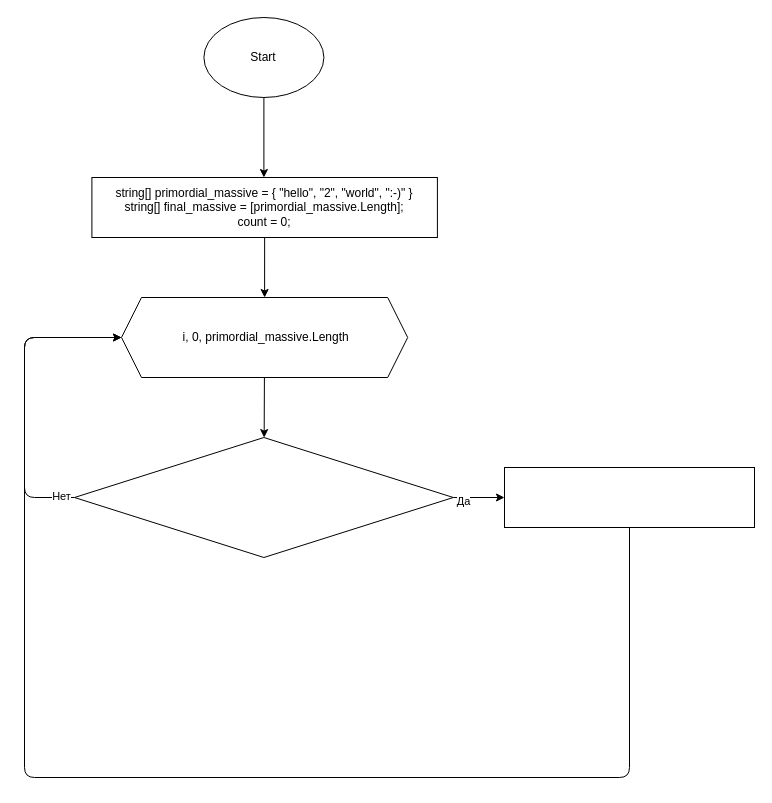
Some shapes in this 772 by 803 pixel diagram are drawn without their labels. The shapes that lost their labels are listed below. From the top down, each one's box as (x1, y1, x2, y2) in pixels, then its label:
(74, 436, 453, 558): primordial_massive[i].Length < 4primordial_massive[i].Length <= 3
(504, 466, 754, 528): final_massive[count] = primordial_massive[i]; count++;
